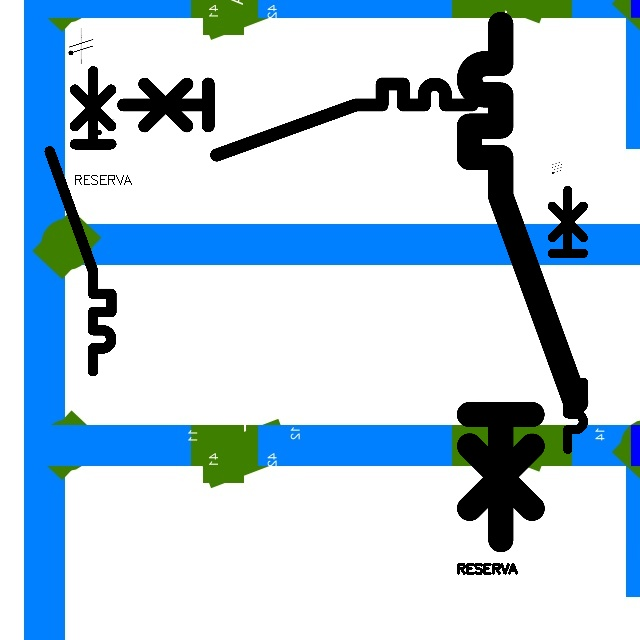interruptor_termomagnetico: (456, 11, 588, 553), (114, 75, 480, 164), (42, 63, 119, 378), (524, 183, 590, 455)
